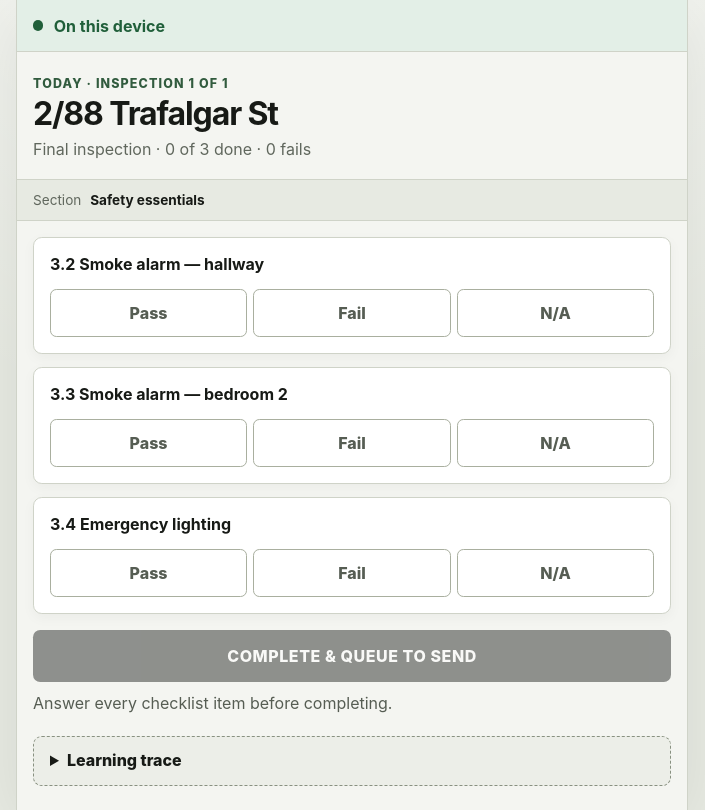
Test: InspectionScreen › renders an optimistic result immediately and reveals its note field
The image size is (705, 810).
Step 1. Click the button "Fail" below "3.2 Smoke alarm — hallway" → [352, 313], box [254,289,451,337]
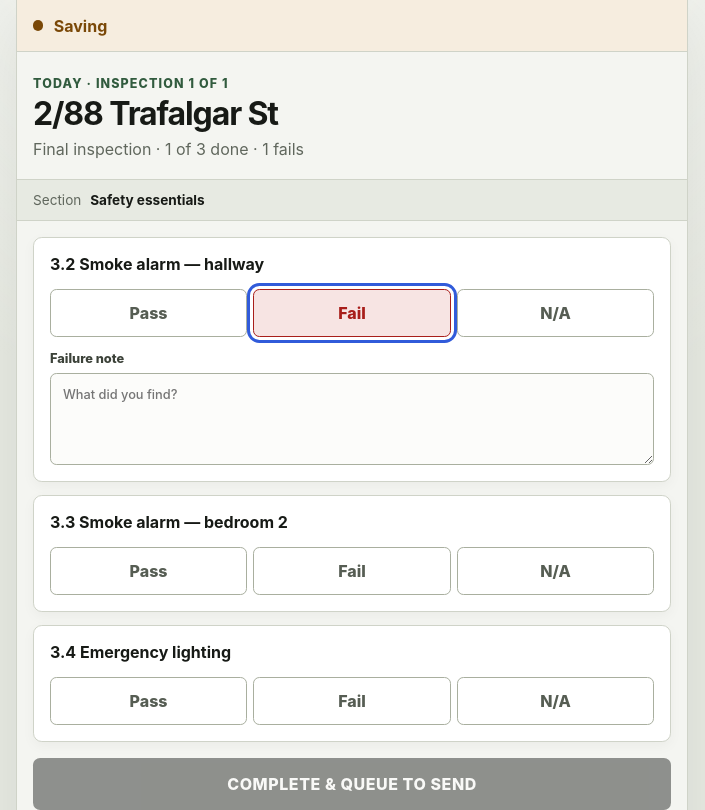
Expected: the text box labelled "Failure note" is enabled, [50,373,654,465]
Expected: the message reads "Saving", [54,16,107,36]
